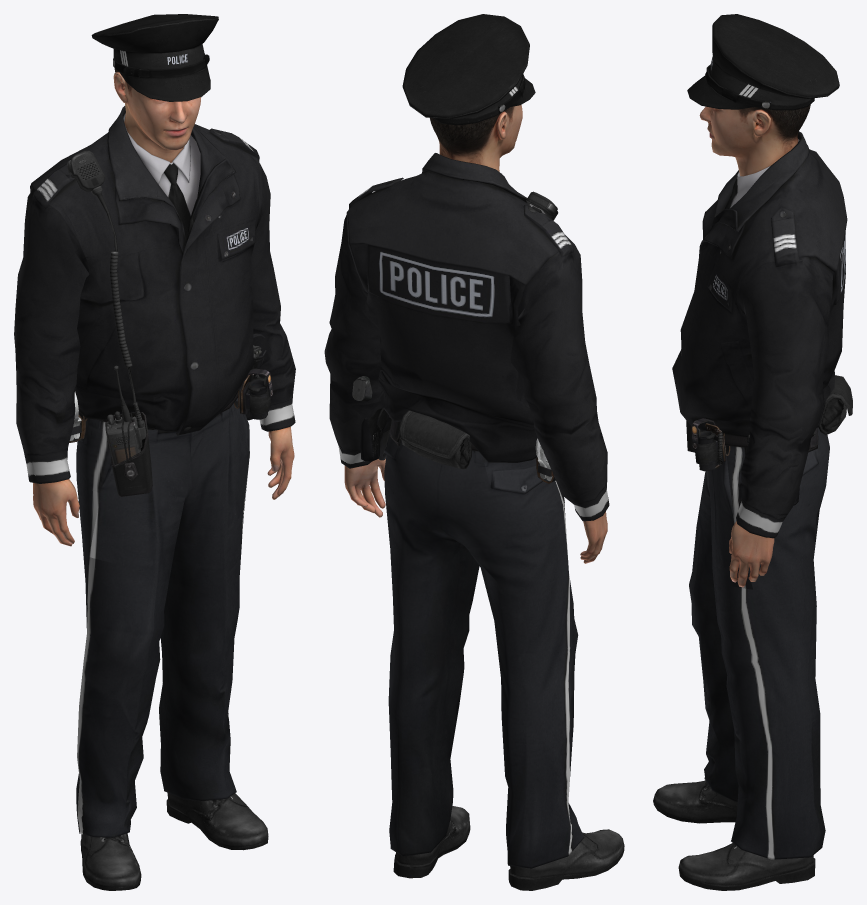
The model's file is PoliceOfficer_Standing.obj.
3 renders of one model, left to right at view 1: azimuth 30°, elevation 25°; view 2: azimuth 150°, elevation 25°; view 3: azimuth 270°, elevation 25°, orthographic.
Visible parts, largest first — view 1: Body, Head, Equipment; view 2: Body, Head, Equipment; view 3: Body, Head, Equipment.
Boxes of the visible parts, bbox=[...] form: Body: bbox=[14, 106, 295, 890]; Head: bbox=[91, 14, 218, 162]; Equipment: bbox=[67, 150, 273, 496]; Body: bbox=[324, 153, 624, 890]; Head: bbox=[402, 14, 535, 171]; Equipment: bbox=[360, 191, 558, 483]; Body: bbox=[653, 131, 847, 890]; Head: bbox=[687, 14, 839, 176]; Equipment: bbox=[686, 375, 852, 505].
Bounding box in the file's own units: 0.6233 × 1.85 × 0.4053.
Materials: 4 (4 with a texture image).
